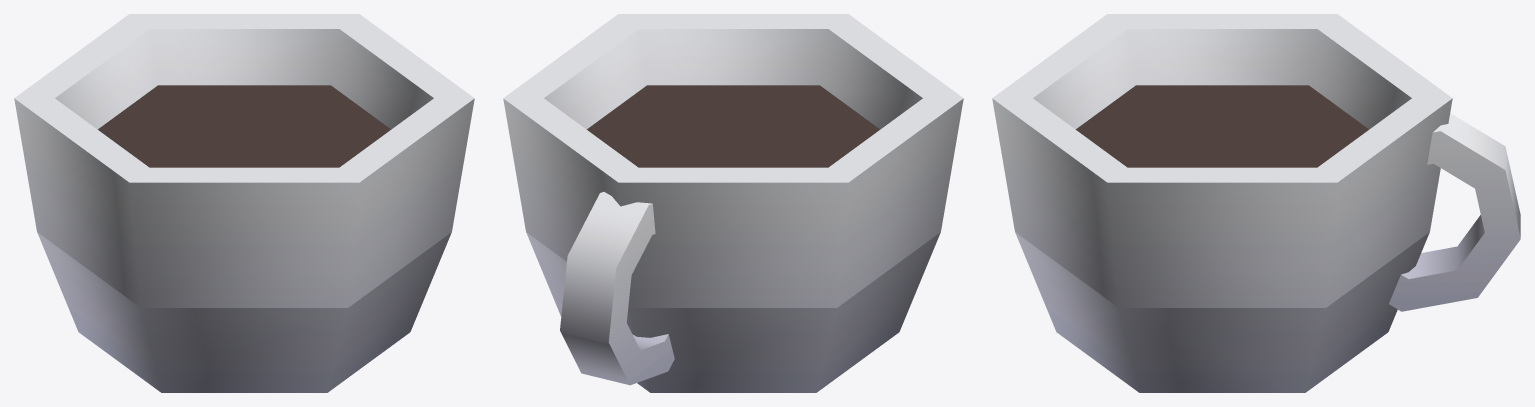
Rendered from coffee.glb.
The picture shows the model from 3 angles, left to right: view 1: azimuth 30°, elevation 25°; view 2: azimuth 150°, elevation 25°; view 3: azimuth 270°, elevation 25°; orthographic projection.
Visible parts, largest first — view 1: cup-coffee; view 2: cup-coffee; view 3: cup-coffee.
Part boxes in pixels (box(x1,y1,x2,y2)): cup-coffee: box(14, 14, 474, 392); cup-coffee: box(503, 14, 963, 392); cup-coffee: box(992, 14, 1520, 392).
Bounding box in the file's own units: 0.2163 × 0.14 × 0.2866.
1 material, 1 textured.
